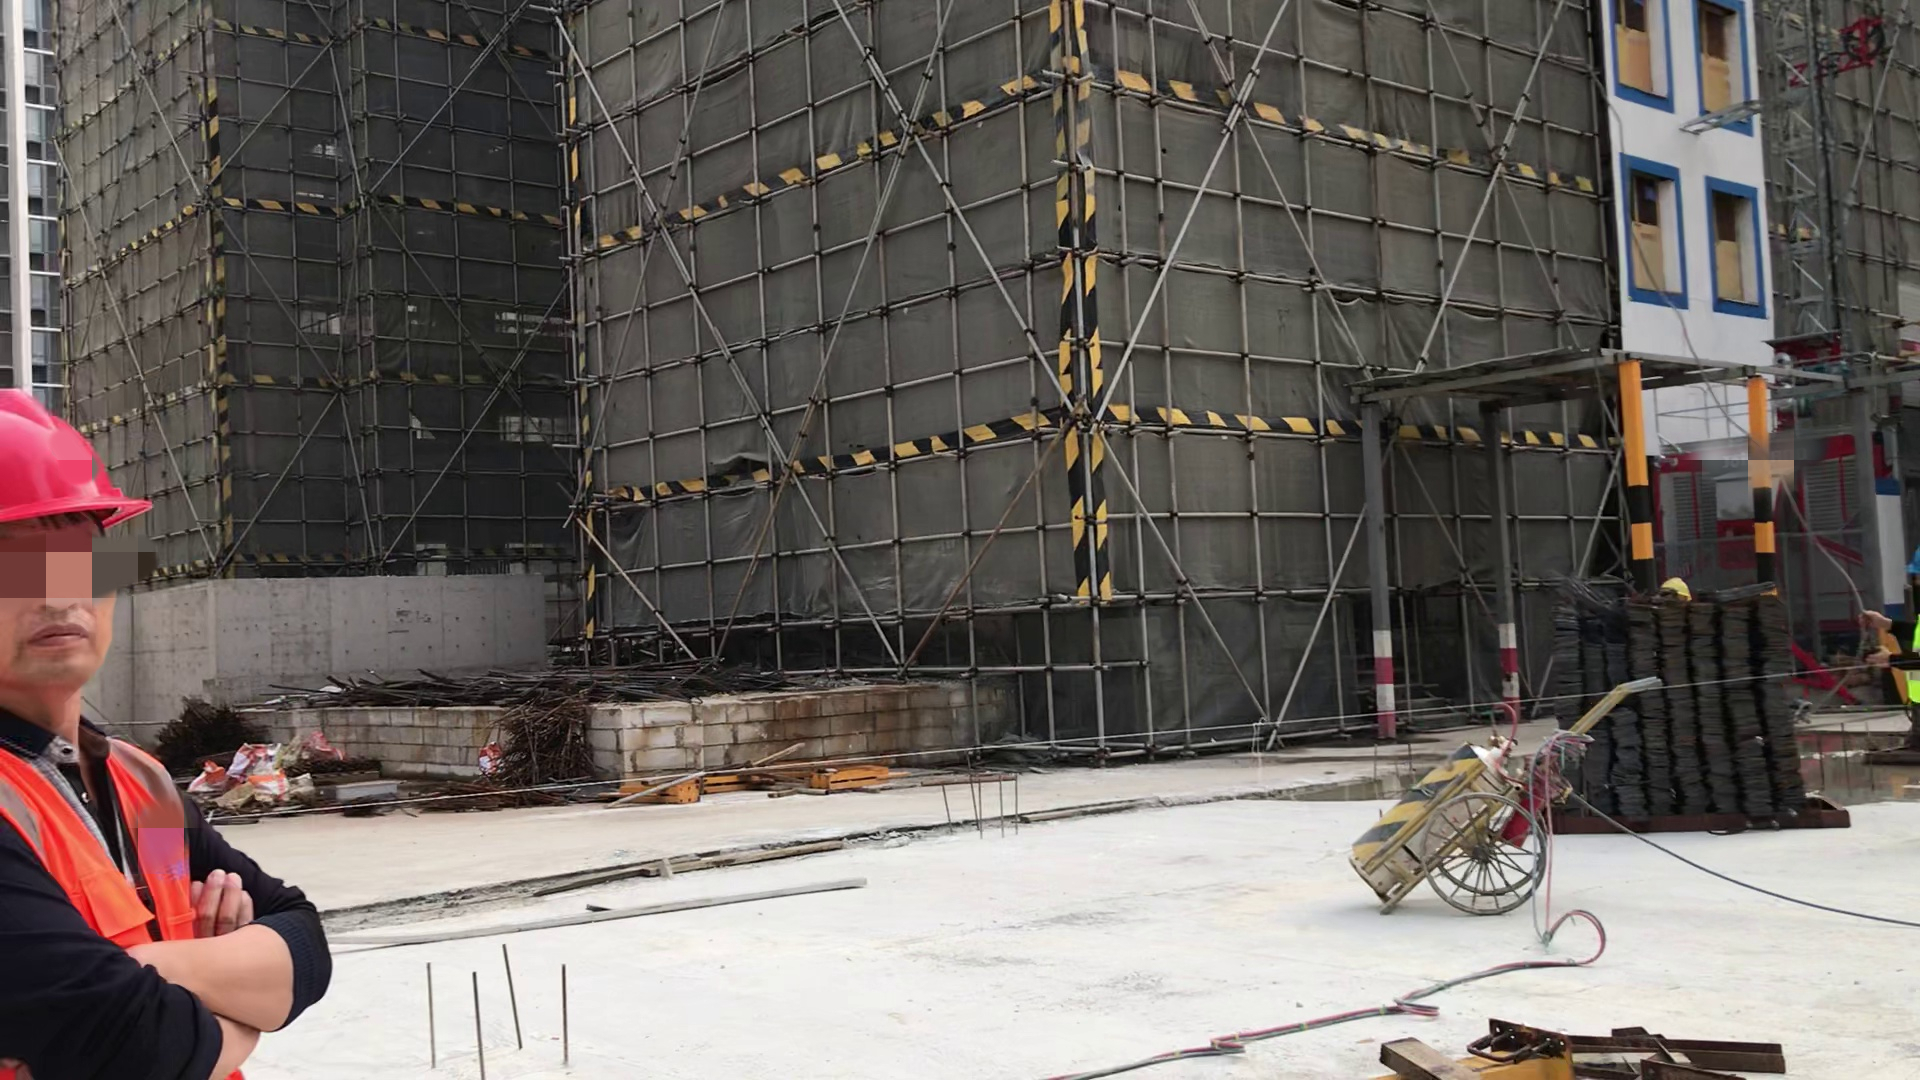helmet: (3, 384, 157, 530)
person: (2, 367, 324, 1074)
vest: (6, 737, 250, 1080)
